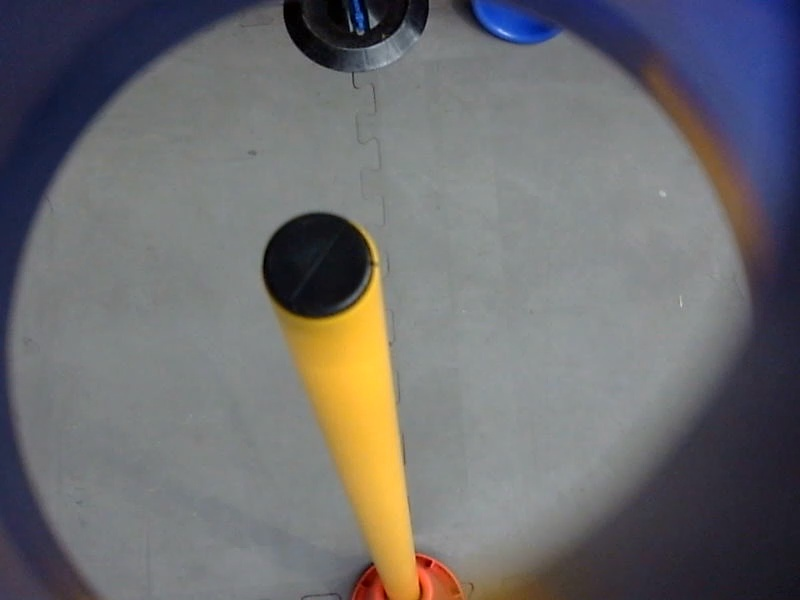tip: (250, 197, 387, 336)
